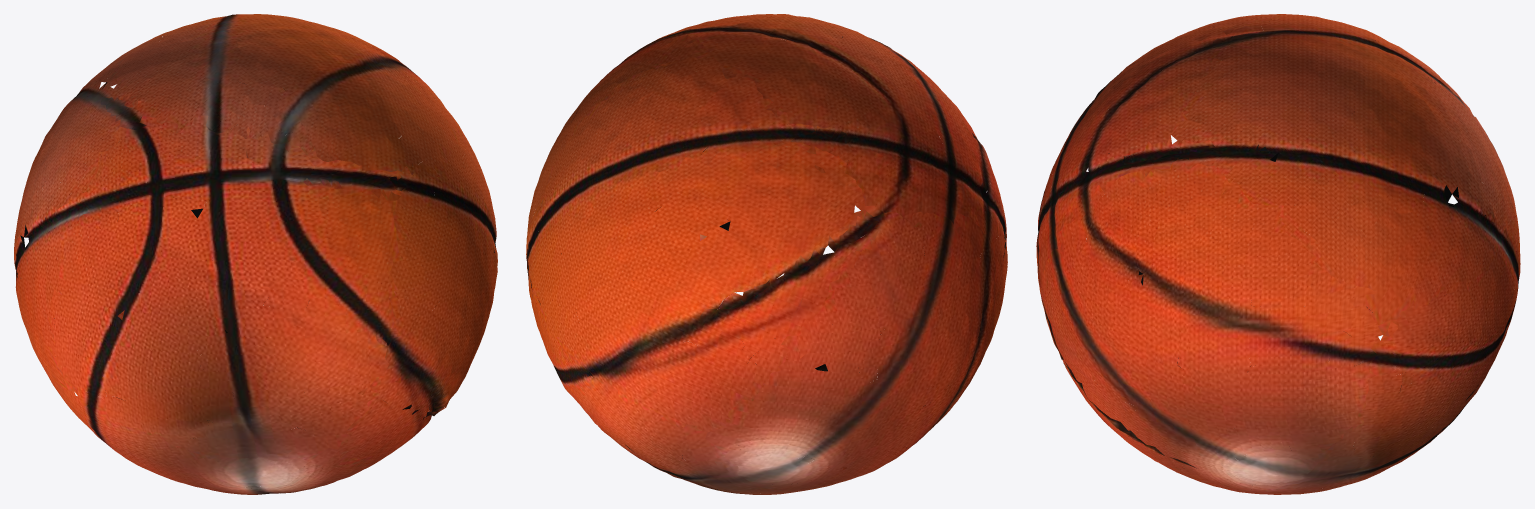
File: basketball1.glb
3 renders of one model, left to right at view 1: azimuth 30°, elevation 25°; view 2: azimuth 150°, elevation 25°; view 3: azimuth 270°, elevation 25°, orthographic.
Parts seen in each view (by area): view 1: world; view 2: world; view 3: world.
Part boxes in pixels (x1=…): world: x1=14, y1=14, x2=497, y2=494; world: x1=526, y1=14, x2=1007, y2=494; world: x1=1036, y1=14, x2=1520, y2=494.
Bounding box in the file's own units: 0.9343 × 0.9265 × 0.9319.
1 material, 1 textured.
